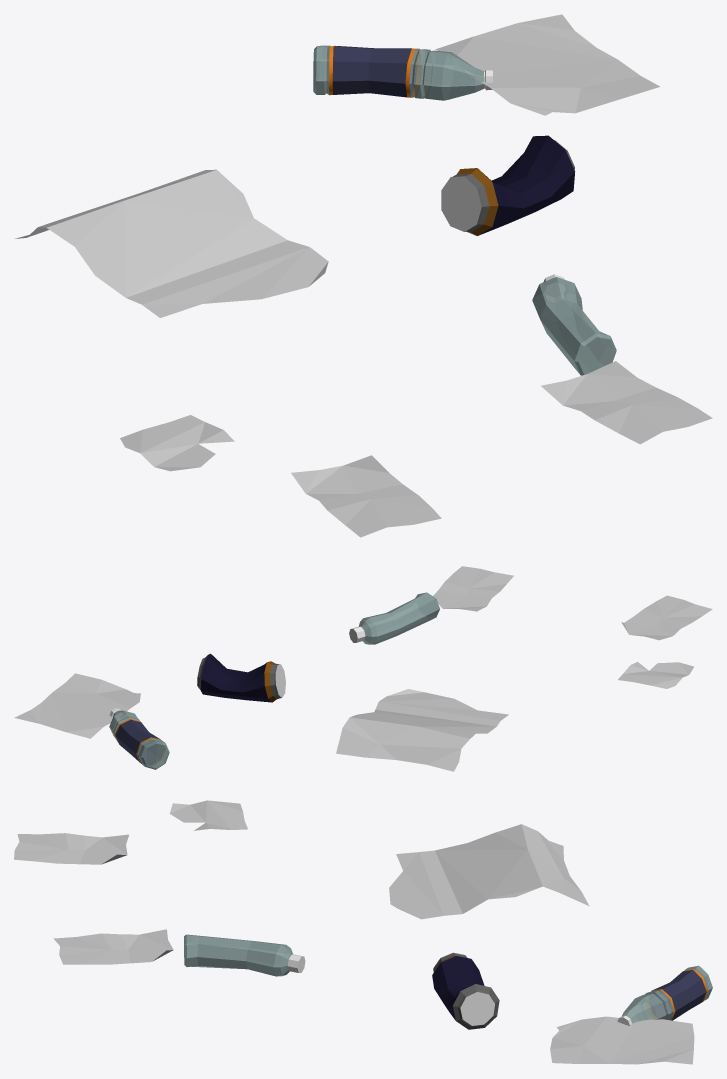
Rendered from WarehouseTrash3.glb.
3 renders of one model, top to bottom at view 1: azimuth 30°, elevation 25°; view 2: azimuth 150°, elevation 25°; view 3: azimuth 270°, elevation 25°, orthographic. The views are drawn at different scales.
Parts seen in each view (by area): view 1: SM_Paper_05.004, SM_Paper_04.004, SM_Bottle_A_01.001, Soda.005, SM_Paper_02.002, SM_Paper_02.001, SM_Bottle_A_02.002, SM_Paper_03.002; view 2: SM_Paper_05.004, SM_Paper_04.004, Soda.005, SM_Bottle_A_02.002, SM_Paper_02.002, SM_Paper_02.001, SM_Bottle_A_01.001, SM_Paper_03.002; view 3: SM_Paper_05.004, SM_Paper_04.004, SM_Bottle_A_02.002, Soda.005, SM_Paper_02.002, SM_Paper_02.001, SM_Bottle_A_01.001, SM_Paper_03.002.
Part boxes in pixels (x1,y1,x2,y2): SM_Paper_05.004: (15,169,328,317); SM_Paper_04.004: (435,14,659,115); SM_Bottle_A_01.001: (313,45,492,100); Soda.005: (441,135,575,235); SM_Paper_02.002: (541,361,712,444); SM_Paper_02.001: (291,455,441,537); SM_Bottle_A_02.002: (532,274,616,375); SM_Paper_03.002: (120,415,234,471); SM_Paper_05.004: (336,689,508,771); SM_Paper_04.004: (14,673,140,738); Soda.005: (197,653,285,702); SM_Bottle_A_02.002: (349,592,439,644); SM_Paper_02.002: (433,566,513,611); SM_Paper_02.001: (621,595,712,640); SM_Bottle_A_01.001: (109,708,169,769); SM_Paper_03.002: (618,662,693,688); SM_Paper_05.004: (389,824,589,919); SM_Paper_04.004: (550,1016,694,1064); SM_Bottle_A_02.002: (184,934,305,976); Soda.005: (432,952,499,1029); SM_Paper_02.002: (54,929,173,964); SM_Paper_02.001: (14,833,128,864); SM_Bottle_A_01.001: (617,965,712,1025); SM_Paper_03.002: (169,800,247,830).
Size of the model in its own units: 0.6106 by 0.0498 by 0.6846.
